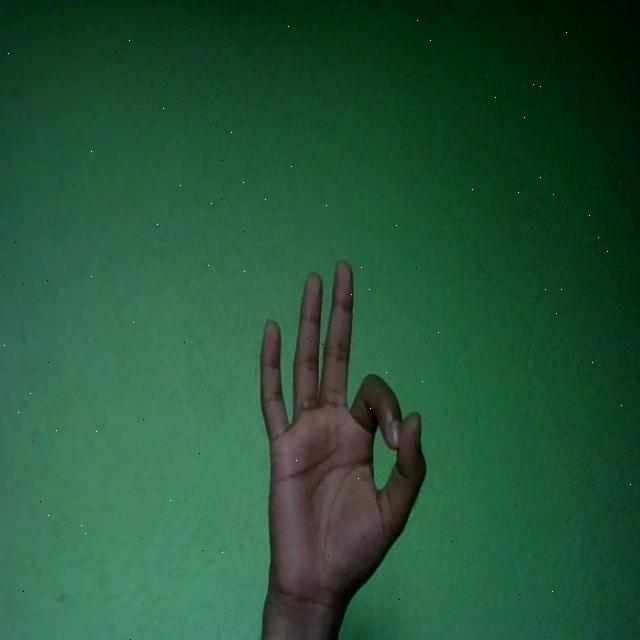Rock On: (259, 258, 424, 610)
